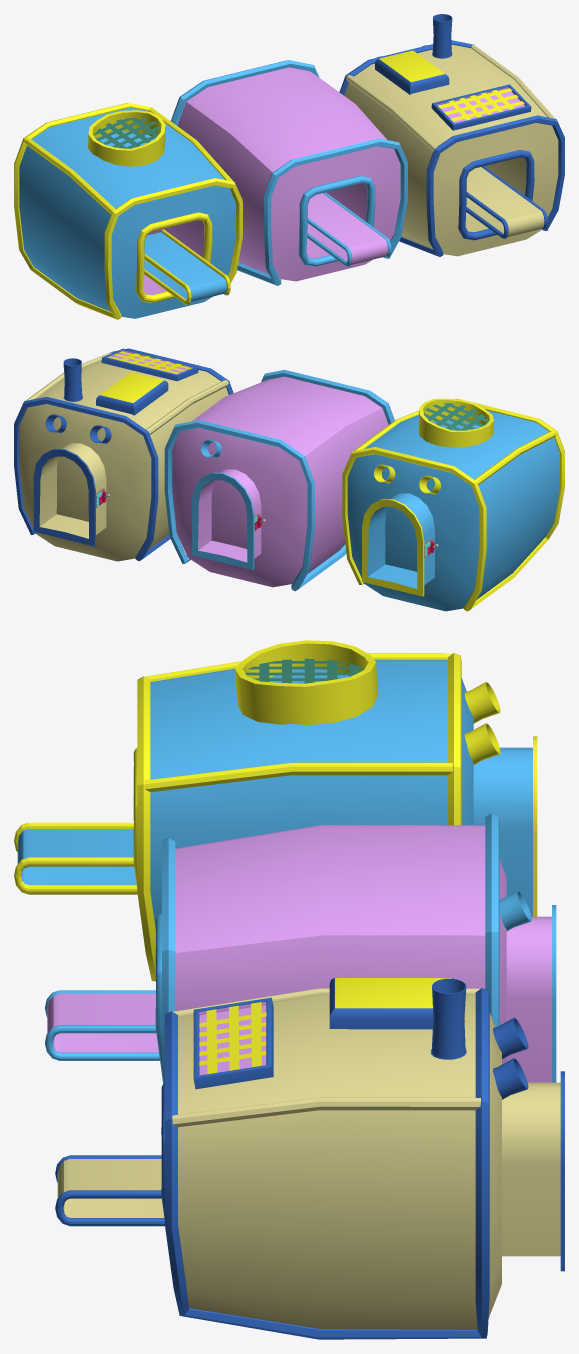
File: press machines 001.fbx
3 renders of one model, top to bottom at view 1: azimuth 30°, elevation 25°; view 2: azimuth 150°, elevation 25°; view 3: azimuth 270°, elevation 25°, orthographic. The views are drawn at different scales.
Parts seen in each view (by area): view 1: pres_machine_02, pres_machine_01, pres_machine_03; view 2: pres_machine_02, pres_machine_01, pres_machine_03; view 3: pres_machine_03, pres_machine_02, pres_machine_01.
Boxes of the visible parts, bbox=[...] form: pres_machine_02: bbox=[14, 103, 242, 319]; pres_machine_01: bbox=[171, 60, 407, 285]; pres_machine_03: bbox=[339, 14, 564, 256]; pres_machine_02: bbox=[342, 398, 564, 611]; pres_machine_01: bbox=[164, 369, 394, 591]; pres_machine_03: bbox=[14, 348, 233, 561]; pres_machine_03: bbox=[55, 978, 564, 1339]; pres_machine_02: bbox=[14, 640, 537, 981]; pres_machine_01: bbox=[45, 813, 556, 1083].
Size of the model in its own units: 2433 by 939 by 1337.
1 material, 1 textured.
